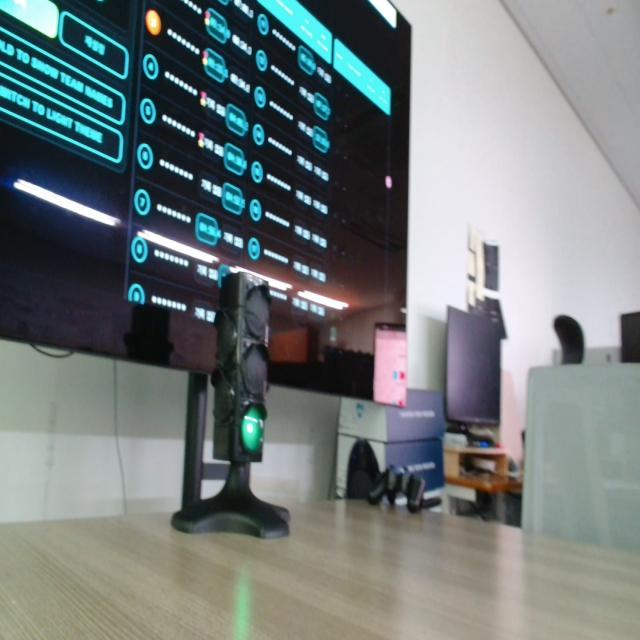green_light: (242, 405, 266, 453)
